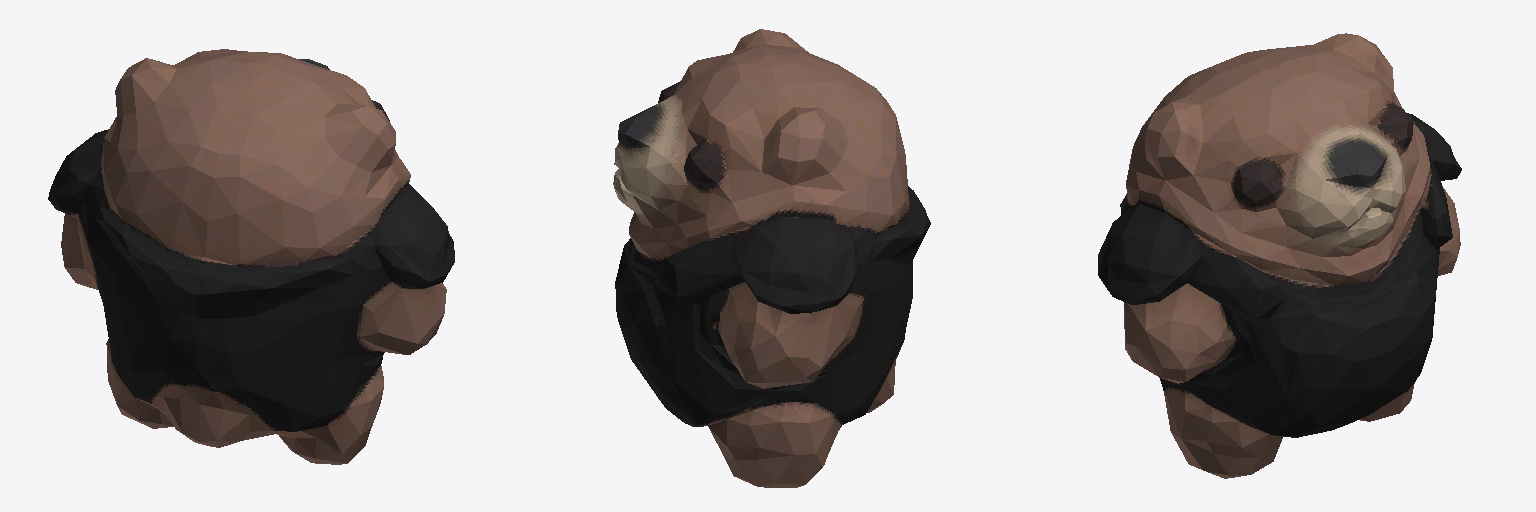
3 views of the same model, side by side, from view 1: azimuth 30°, elevation 25°; view 2: azimuth 150°, elevation 25°; view 3: azimuth 270°, elevation 25° (orthographic).
Visible parts, largest first — view 1: teddy:StaticMeshActor_39da5e60_Plushie_0_TacticalBear_30048e0c_0; view 2: teddy:StaticMeshActor_39da5e60_Plushie_0_TacticalBear_30048e0c_0; view 3: teddy:StaticMeshActor_39da5e60_Plushie_0_TacticalBear_30048e0c_0.
Part boxes in pixels (x1,y1,x2,y2): teddy:StaticMeshActor_39da5e60_Plushie_0_TacticalBear_30048e0c_0: (48, 49, 454, 464); teddy:StaticMeshActor_39da5e60_Plushie_0_TacticalBear_30048e0c_0: (613, 29, 930, 487); teddy:StaticMeshActor_39da5e60_Plushie_0_TacticalBear_30048e0c_0: (1098, 33, 1461, 478).
Bounding box in the file's own units: 0.4018 × 0.5153 × 0.4428.
1 materials, 1 textured.